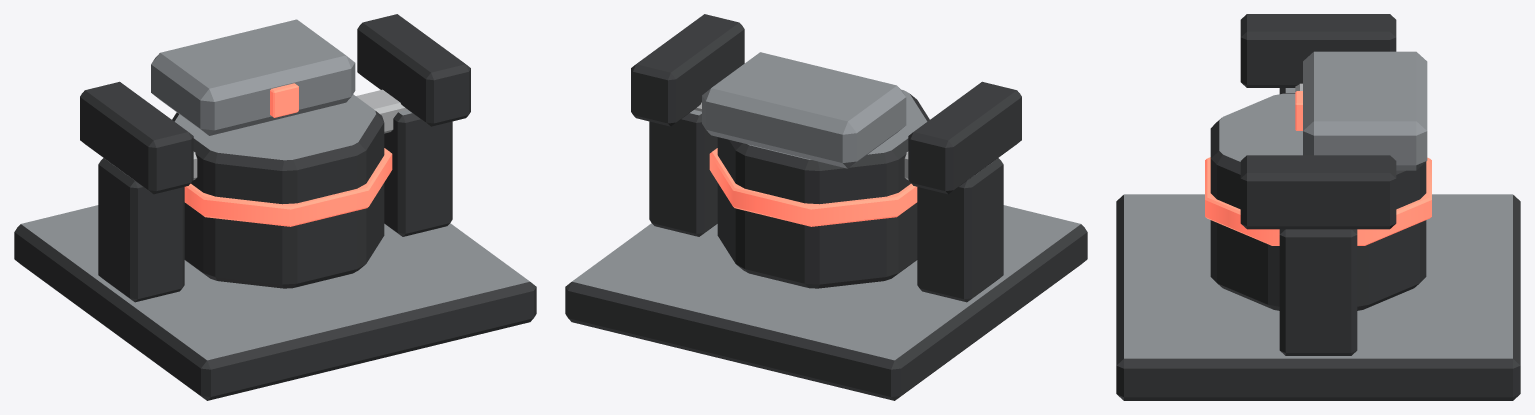
File: R4X_OffensiveTurretDeployer_LOD1.fbx
The picture shows the model from 3 angles, left to right: view 1: azimuth 30°, elevation 25°; view 2: azimuth 150°, elevation 25°; view 3: azimuth 270°, elevation 25°; orthographic projection. The views are drawn at different scales.
Visible parts, largest first — view 1: R4X_OffensiveTurretDeployer_LOD1; view 2: R4X_OffensiveTurretDeployer_LOD1; view 3: R4X_OffensiveTurretDeployer_LOD1.
Part boxes in pixels (box(x1,y1,x2,y2)): R4X_OffensiveTurretDeployer_LOD1: box(14, 14, 536, 400); R4X_OffensiveTurretDeployer_LOD1: box(565, 14, 1087, 400); R4X_OffensiveTurretDeployer_LOD1: box(1116, 14, 1520, 400).
Bounding box in the file's own units: 0.52 × 0.33 × 0.52.
